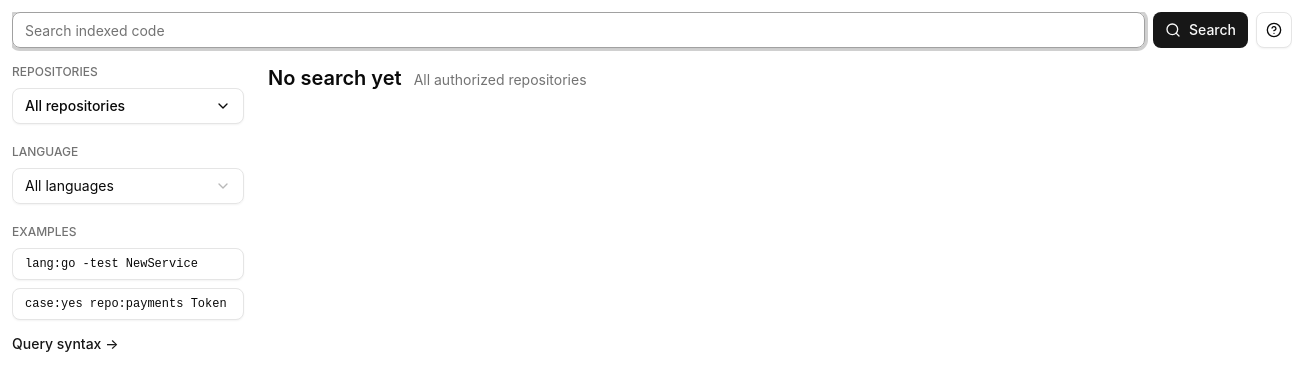
file viewer › focuses the back button on open and reports a truncated file
The image size is (1304, 369).
Type "Run" into the search field named "Search code" at (578, 30), box top-left (12, 12), bottom-right (1145, 48)
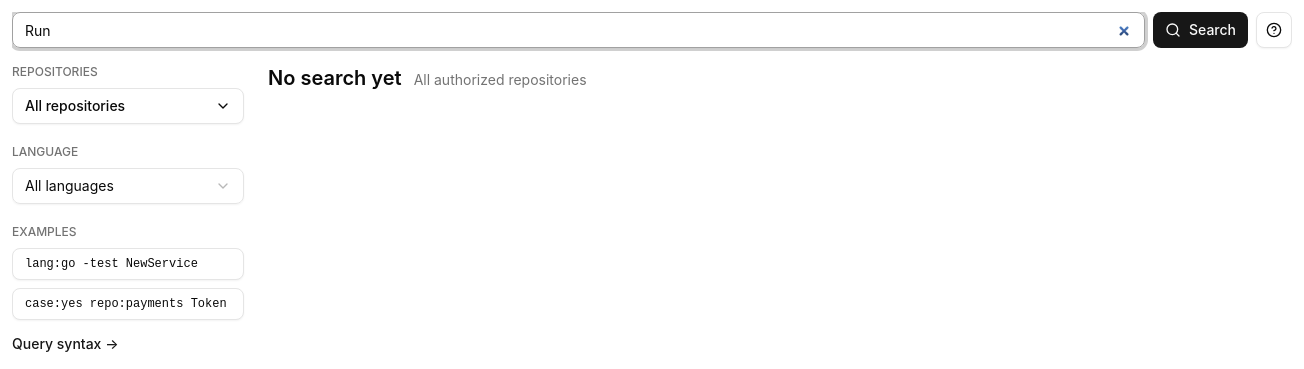
Click the button "Search" at (1200, 30), box top-left (1153, 12), bottom-right (1248, 48)
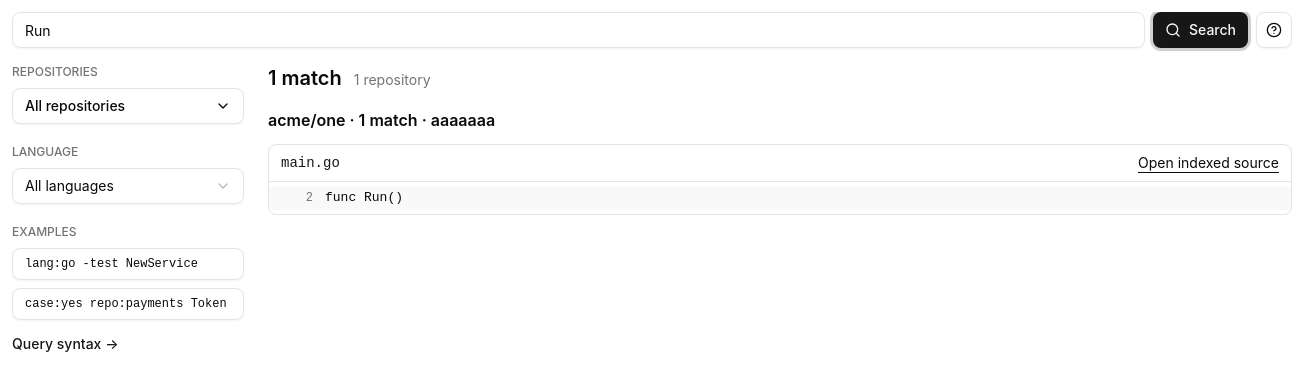
Click the button "main.go" at (310, 163), box top-left (281, 153), bottom-right (340, 173)
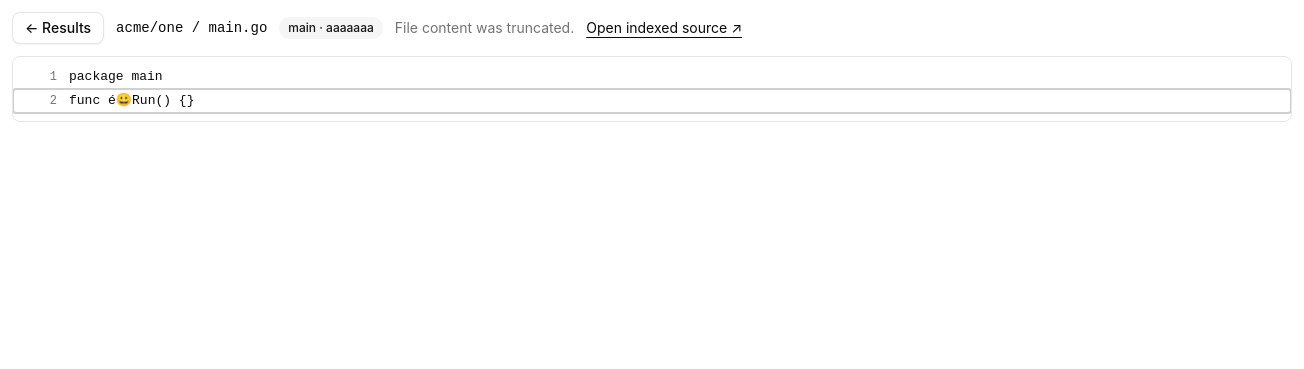
Result: the text "File content was truncated." is shown at top-left (395, 18), bottom-right (574, 38)
